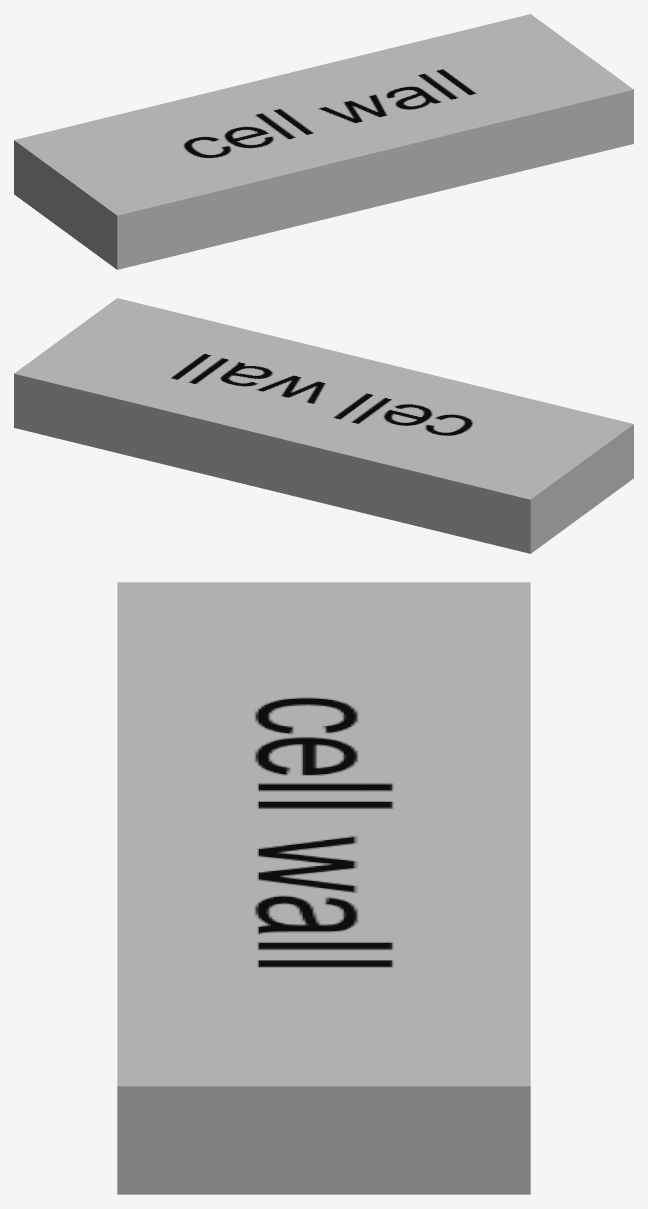
The model's file is cellwall_tag.gltf.
3 views of the same model, one above another, from view 1: azimuth 30°, elevation 25°; view 2: azimuth 150°, elevation 25°; view 3: azimuth 270°, elevation 25° (orthographic). The views are drawn at different scales.
Bounding box in the file's own units: 0.1034 × 0.0104 × 0.0358.
1 material, 1 textured.
